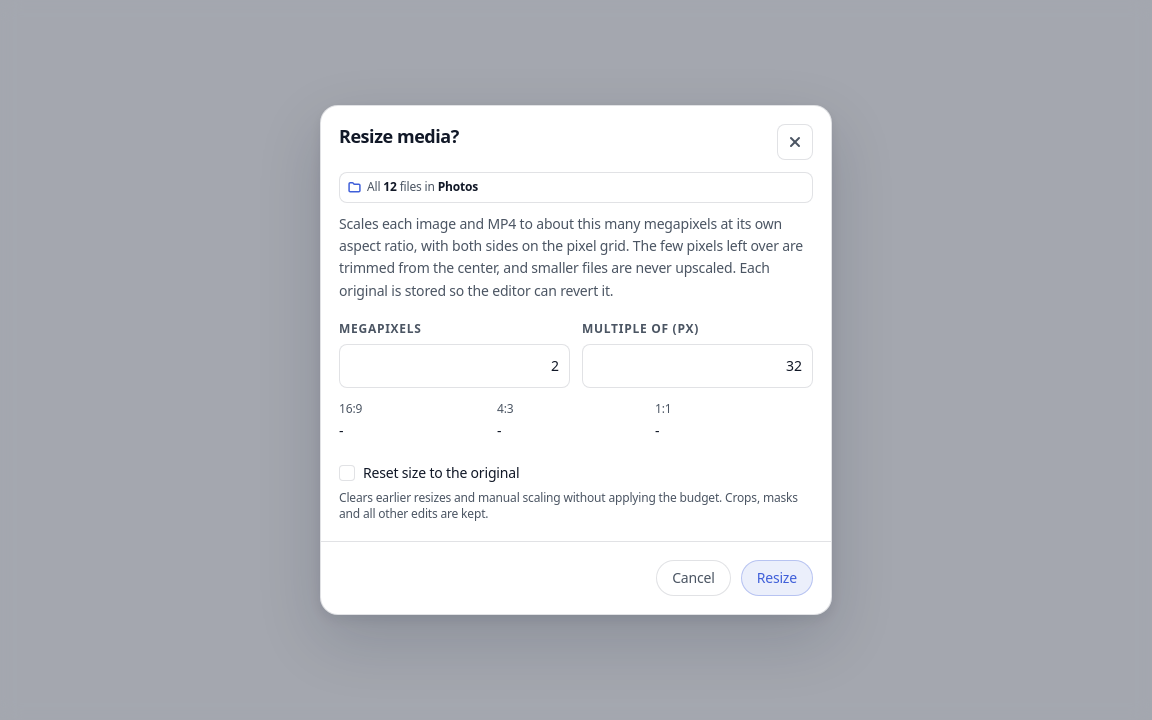
Test: ResizeDialog › refuses Megapixels of 0
The width and height of the screenshot is (1152, 720).
Step 1. Replace the text in the number field labelled "Megapixels" with "0" → [454, 366], box [339,344,570,388]
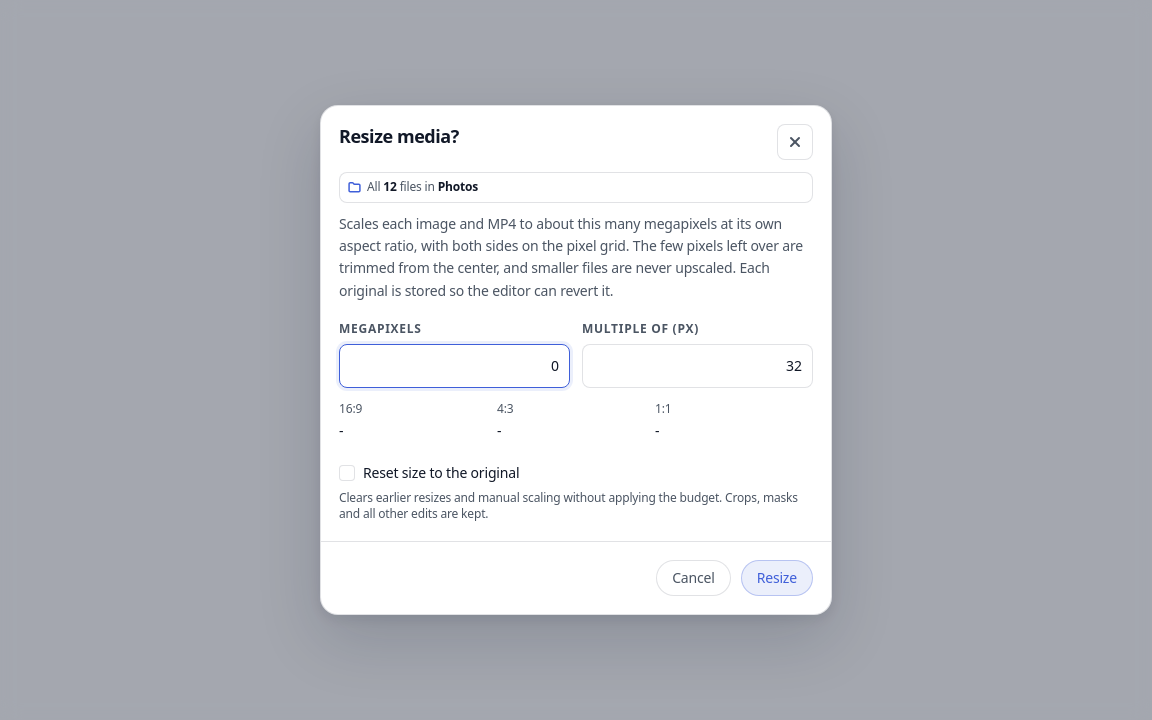
Step 2. Click the button "Resize" → [777, 578], box [741,560,813,596]
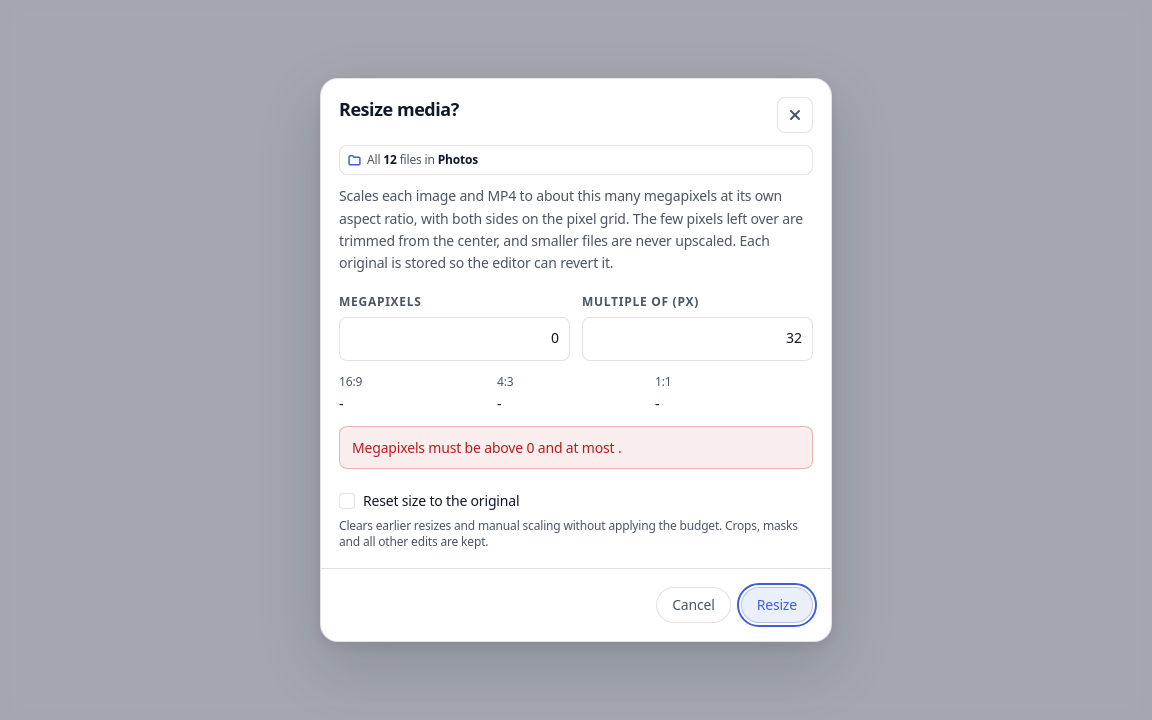
Now the message shows "Megapixels must be above 0", box [352,438,622,457]
